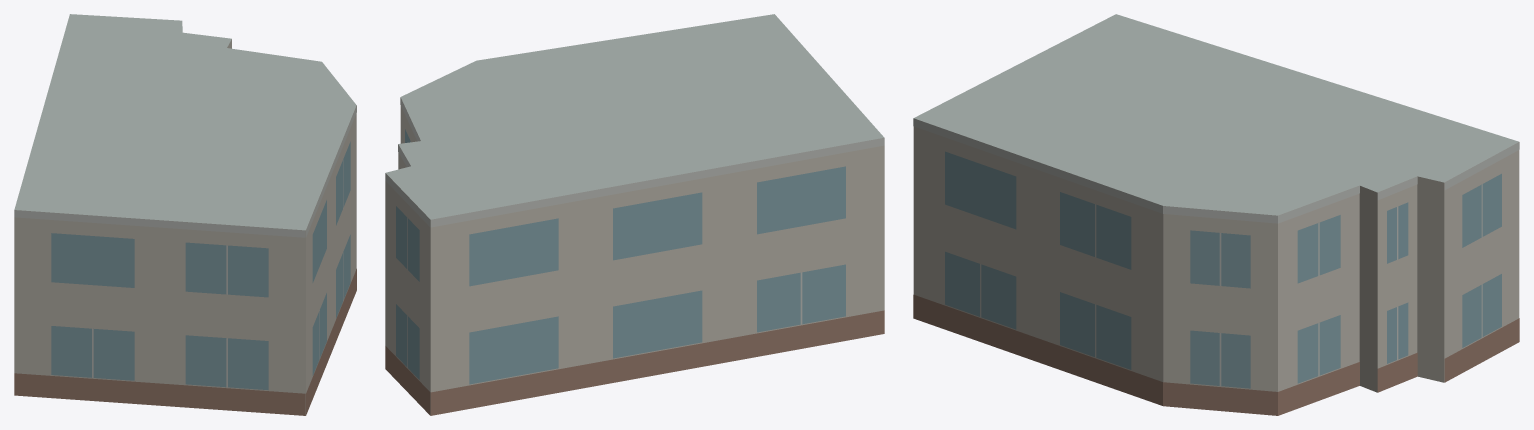
The model's file is survey-upis-32810339.glb.
The picture shows the model from 3 angles, left to right: view 1: azimuth 30°, elevation 25°; view 2: azimuth 150°, elevation 25°; view 3: azimuth 270°, elevation 25°; orthographic projection. The views are drawn at different scales.
Visible parts, largest first — view 1: survey-upis-32810339.tmp; view 2: survey-upis-32810339.tmp; view 3: survey-upis-32810339.tmp.
Boxes of the visible parts, x1=… form: survey-upis-32810339.tmp: x1=14, y1=14, x2=356, y2=415; survey-upis-32810339.tmp: x1=385, y1=14, x2=884, y2=415; survey-upis-32810339.tmp: x1=913, y1=14, x2=1519, y2=415.
Bounding box in the file's own units: 13.18 × 6.1 × 16.74.
